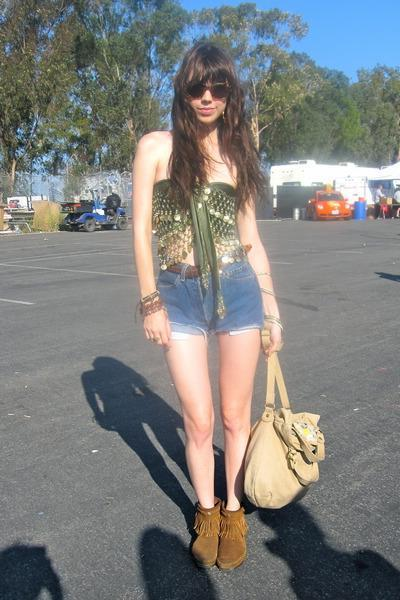Shorts: (144, 260, 267, 342)
vest: (148, 178, 245, 262)
